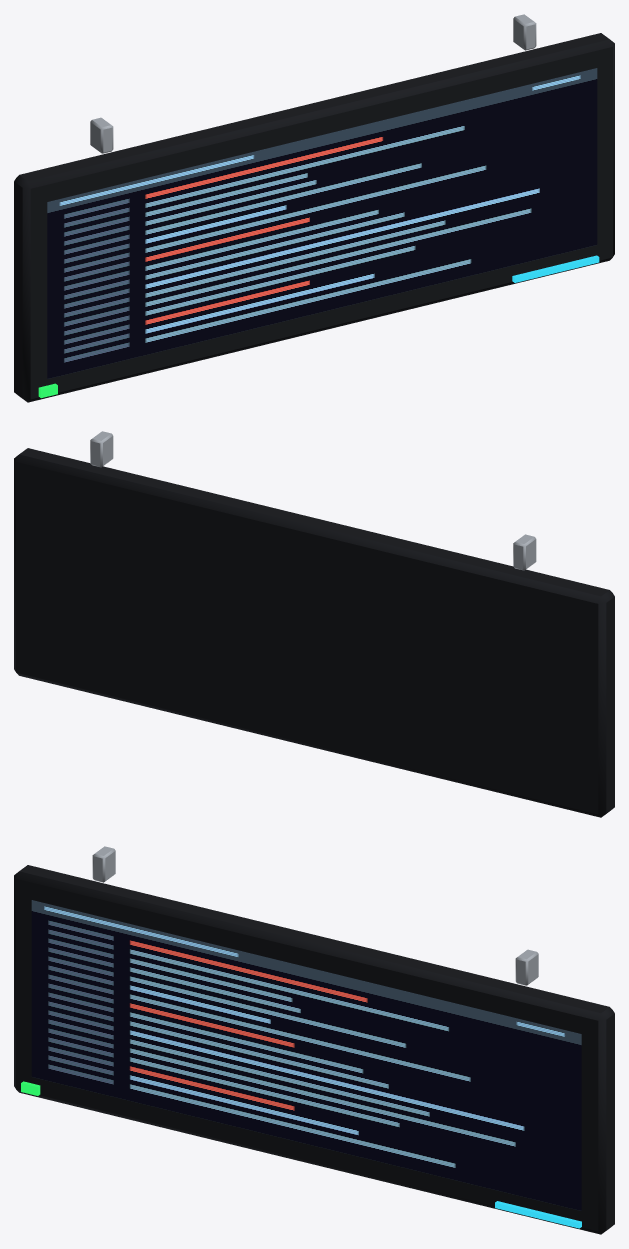
File: noticeboard_digital_message_board.glb
The picture shows the model from 3 angles, top to bottom: view 1: azimuth 30°, elevation 25°; view 2: azimuth 150°, elevation 25°; view 3: azimuth 330°, elevation 25°; orthographic projection.
Parts seen in each view (by area): view 1: noticeboard_digital_message_board; view 2: noticeboard_digital_message_board; view 3: noticeboard_digital_message_board.
Part boxes in pixels (left/top/right/bottom): noticeboard_digital_message_board: left=14, top=14, right=614, bottom=402; noticeboard_digital_message_board: left=14, top=431, right=614, bottom=817; noticeboard_digital_message_board: left=14, top=846, right=614, bottom=1234.
Size of the model in its own units: 1.4 by 0.58 by 0.071.
Materials: 5 (1 with a texture image).
